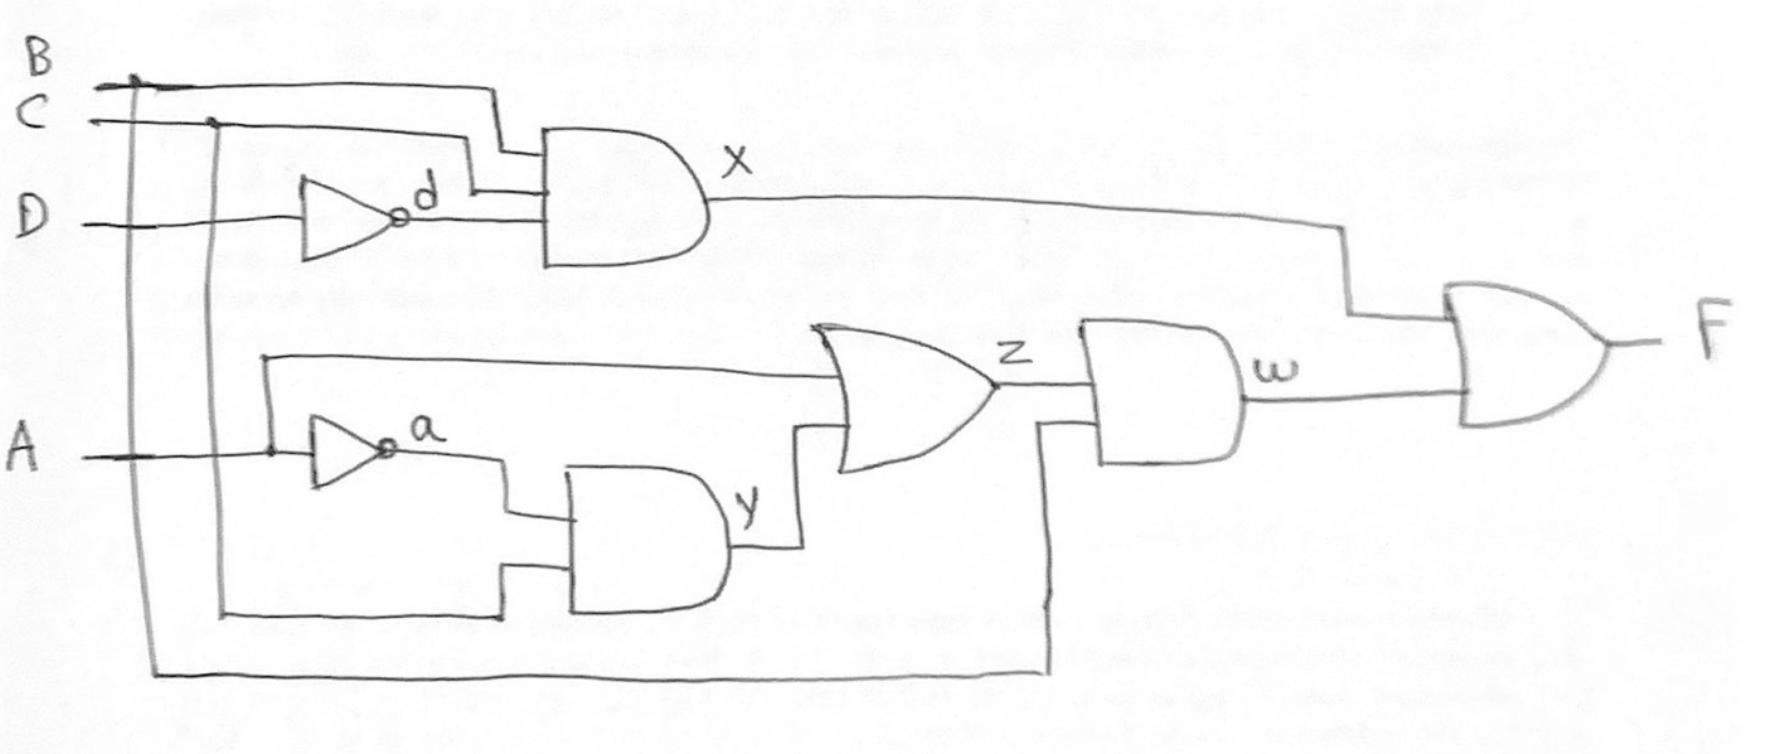AND: (1067, 298, 1263, 488), (542, 454, 739, 623), (524, 122, 725, 281)
NOT: (265, 167, 413, 272), (298, 396, 404, 502)
OR: (1430, 248, 1646, 441), (800, 314, 998, 488)
